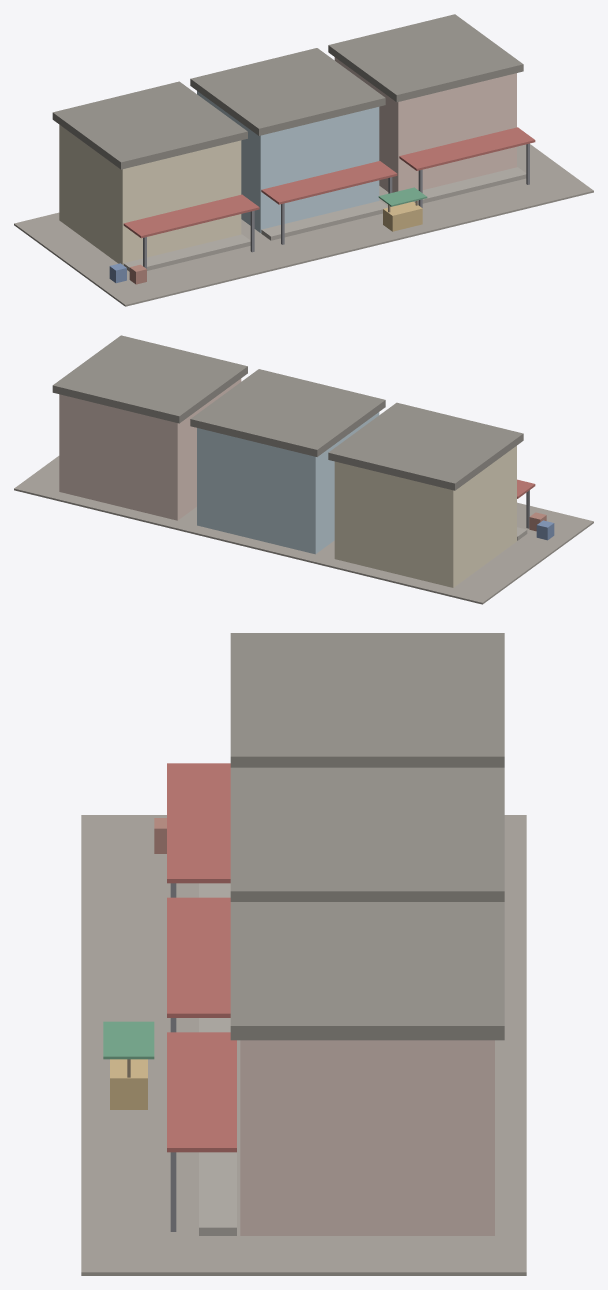
Rendered from maesot_block.glb.
The picture shows the model from 3 angles, top to bottom: view 1: azimuth 30°, elevation 25°; view 2: azimuth 150°, elevation 25°; view 3: azimuth 270°, elevation 25°; orthographic projection. The views are drawn at different scales.
Visible parts, largest first — view 1: NOCOL_pavement, shop_0_body, shop_1_body, shop_2_body, shop_1_roof, shop_2_roof, shop_0_roof, NOCOL_awning_1, NOCOL_awning_0, NOCOL_awning_2, shop_1_step, shop_0_step (+3 smaller); view 2: shop_0_body, shop_2_body, shop_1_body, NOCOL_pavement, shop_0_roof, shop_2_roof, shop_1_roof; view 3: NOCOL_pavement, shop_2_body, shop_2_roof, shop_0_roof, shop_1_roof, NOCOL_awning_2, NOCOL_awning_0, NOCOL_awning_1, shop_2_step, NOCOL_cart_roof, cart_body.
Part boxes in pixels (box(x1,y1,x2,y2)): NOCOL_pavement: box(14, 144, 593, 306); shop_0_body: box(59, 125, 241, 265); shop_1_body: box(197, 91, 379, 232); shop_2_body: box(334, 57, 516, 192); shop_1_roof: box(190, 48, 385, 135); shop_2_roof: box(328, 14, 523, 102); shop_0_roof: box(52, 81, 247, 169); NOCOL_awning_1: box(261, 161, 397, 204); NOCOL_awning_0: box(123, 194, 259, 238); NOCOL_awning_2: box(399, 127, 535, 170); shop_1_step: box(261, 201, 387, 240); shop_0_step: box(123, 234, 250, 271); shop_0_body: box(334, 446, 516, 587); shop_2_body: box(59, 378, 241, 520); shop_1_body: box(197, 412, 379, 554); NOCOL_pavement: box(14, 456, 593, 604); shop_0_roof: box(328, 402, 523, 490); shop_2_roof: box(52, 335, 247, 423); shop_1_roof: box(190, 369, 385, 456); NOCOL_pavement: box(81, 815, 526, 1275); shop_2_body: box(240, 1040, 494, 1235); shop_2_roof: box(230, 902, 504, 1040); shop_0_roof: box(230, 633, 504, 767); shop_1_roof: box(230, 767, 504, 901); NOCOL_awning_2: box(167, 1032, 236, 1152); NOCOL_awning_0: box(167, 763, 230, 883); NOCOL_awning_1: box(167, 897, 230, 1017); shop_2_step: box(199, 1152, 236, 1235); NOCOL_cart_roof: box(103, 1021, 154, 1059); cart_body: box(110, 1059, 147, 1109).
Size of the model in its own units: 34 by 7.55 by 14.
